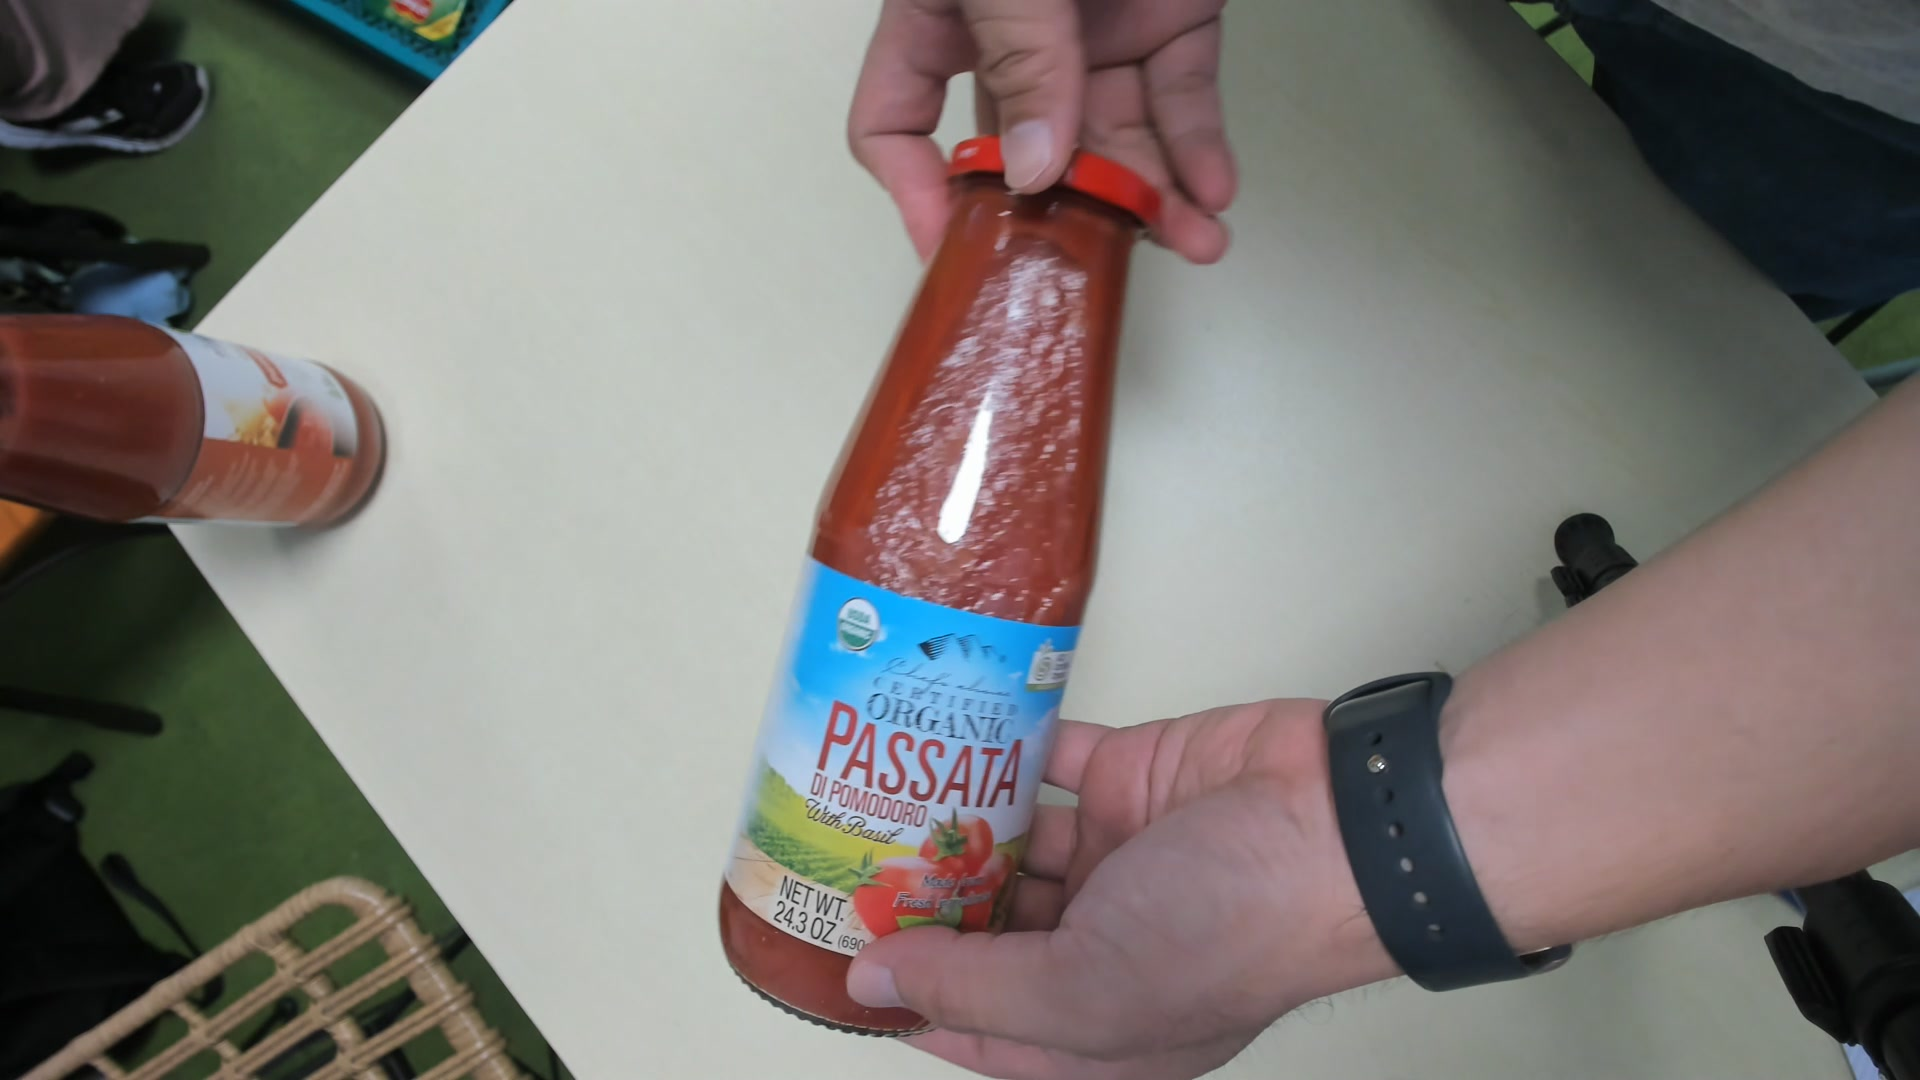PastaSauce_600-699g_NonHalal_NonHealthy: (717, 135, 1171, 1034)
